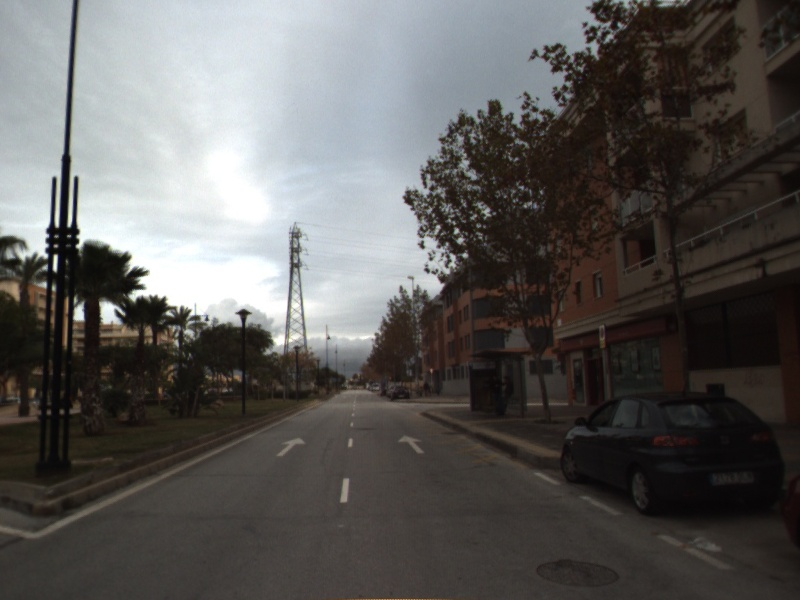STRAIGHT: (275, 435, 308, 458), (396, 433, 427, 455)
